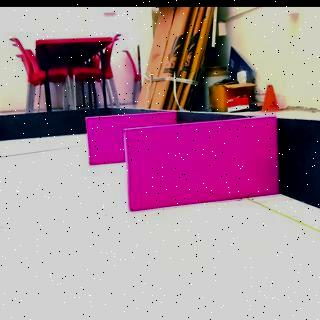xparking: (128, 130, 278, 208), (88, 117, 124, 164)
